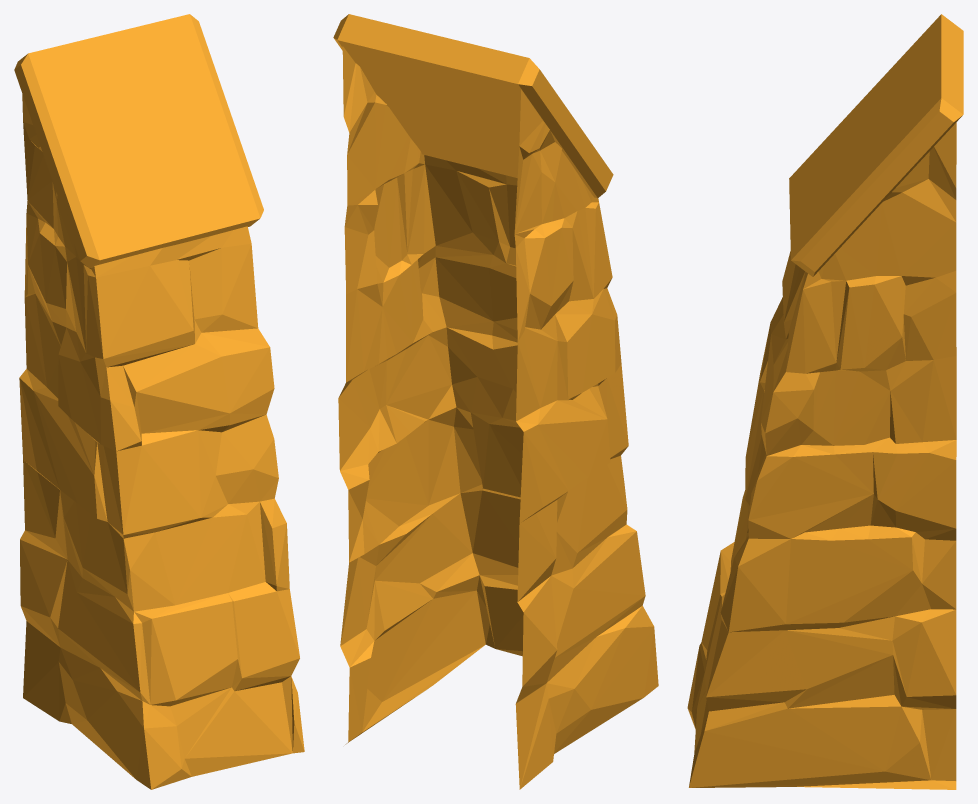
Rendered from SM_Support_Leaning_Top_A_Fantasy.fbx.
3 views of the same model, side by side, from view 1: azimuth 30°, elevation 25°; view 2: azimuth 150°, elevation 25°; view 3: azimuth 270°, elevation 25° (orthographic). The views are drawn at different scales.
Parts seen in each view (by area): view 1: SM_Support_Leaning_Top_A_Fantasy; view 2: SM_Support_Leaning_Top_A_Fantasy; view 3: SM_Support_Leaning_Top_A_Fantasy.
Part boxes in pixels (box(x1,y1,x2,y2)): SM_Support_Leaning_Top_A_Fantasy: box(14, 14, 304, 789); SM_Support_Leaning_Top_A_Fantasy: box(333, 14, 658, 789); SM_Support_Leaning_Top_A_Fantasy: box(687, 14, 963, 789).
Size of the model in its own units: 0.8233 by 2.88 by 1.04.
